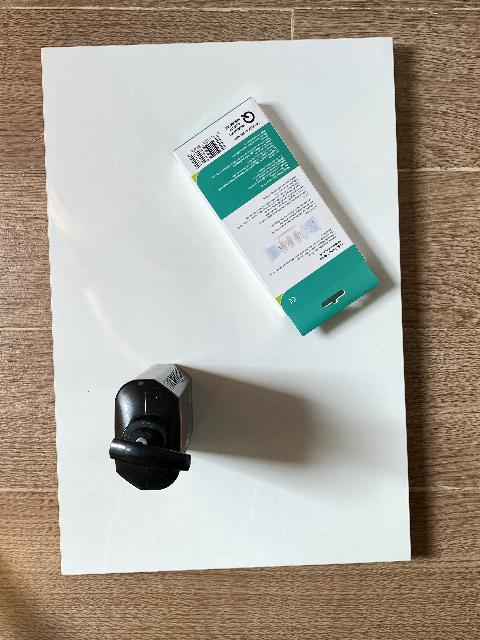4D_medical_face-mask: (174, 96, 380, 337)
X-men: (109, 364, 193, 491)
